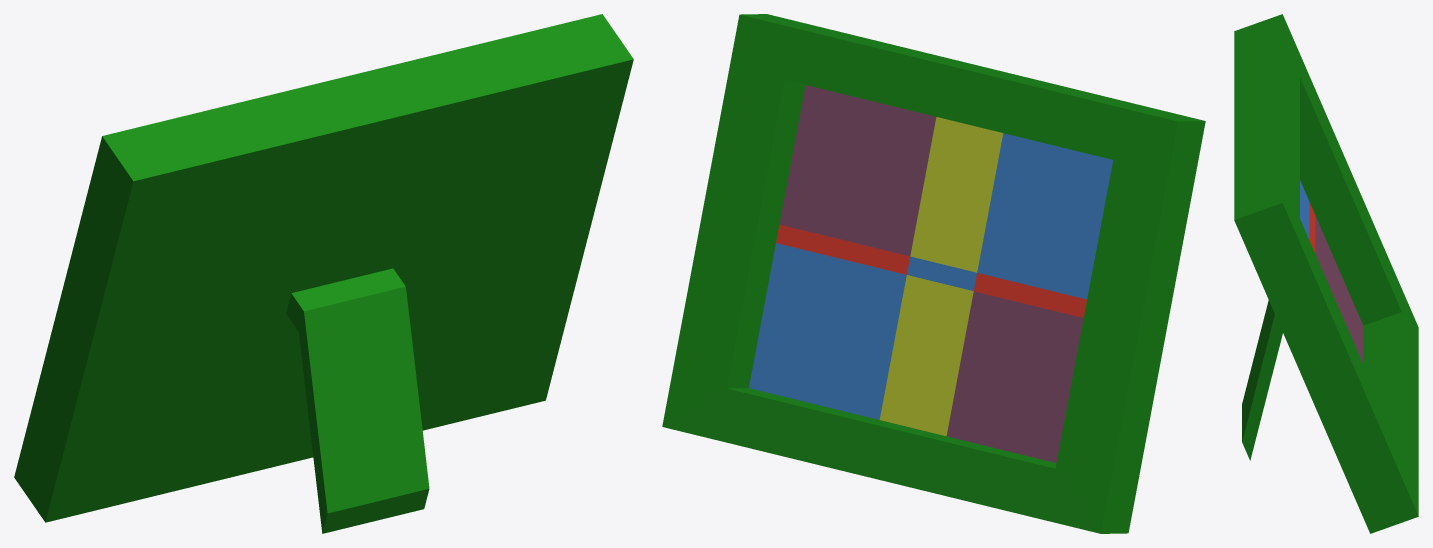
Rendered from FrameV_Material.fbx.
The picture shows the model from 3 angles, left to right: view 1: azimuth 30°, elevation 25°; view 2: azimuth 150°, elevation 25°; view 3: azimuth 270°, elevation 25°; orthographic projection. The views are drawn at different scales.
Visible parts, largest first — view 1: FrameV; view 2: FrameV; view 3: FrameV.
Part boxes in pixels (x1,y1,x2,y2): FrameV: (14,14,633,533); FrameV: (662,14,1205,533); FrameV: (1234,14,1418,533).
Size of the model in its own units: 0.2279 by 0.1876 by 0.0942.
